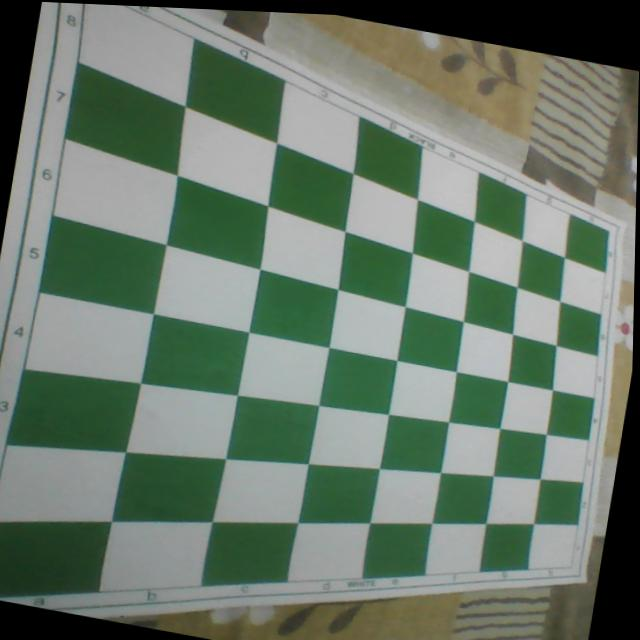square: (65, 61, 187, 175), (54, 138, 178, 244), (23, 290, 155, 384), (42, 215, 167, 313), (77, 4, 195, 107), (5, 368, 139, 452), (187, 38, 286, 144), (178, 106, 278, 206), (0, 444, 126, 522), (152, 243, 261, 332), (168, 175, 267, 270), (140, 313, 251, 394), (126, 382, 238, 458), (0, 521, 111, 595), (111, 451, 227, 521), (99, 522, 215, 591), (276, 81, 361, 174), (268, 144, 355, 231), (261, 205, 346, 290), (248, 269, 339, 347), (237, 332, 329, 404), (226, 394, 318, 464), (212, 458, 309, 523), (201, 521, 297, 586), (346, 173, 419, 252), (353, 115, 422, 197), (339, 231, 412, 306), (330, 290, 407, 360), (320, 347, 397, 414), (308, 404, 385, 469), (297, 464, 380, 523), (287, 522, 370, 581), (417, 147, 479, 221), (404, 252, 469, 322), (413, 199, 474, 272), (397, 307, 466, 371), (389, 360, 456, 421), (380, 414, 448, 472), (370, 468, 441, 523), (362, 523, 433, 578), (468, 221, 524, 287), (474, 171, 527, 240), (456, 321, 514, 381), (449, 371, 509, 428), (463, 272, 517, 334), (425, 522, 487, 575), (441, 422, 500, 476), (522, 193, 571, 258), (433, 472, 494, 523), (518, 240, 565, 302), (513, 287, 562, 345), (501, 381, 552, 434), (495, 428, 548, 479), (486, 476, 542, 524), (479, 523, 535, 571), (509, 334, 556, 390), (561, 258, 605, 315), (552, 344, 598, 398), (566, 214, 609, 271), (546, 390, 595, 439), (540, 434, 590, 482), (528, 524, 579, 569), (557, 303, 600, 355), (535, 479, 583, 525)
